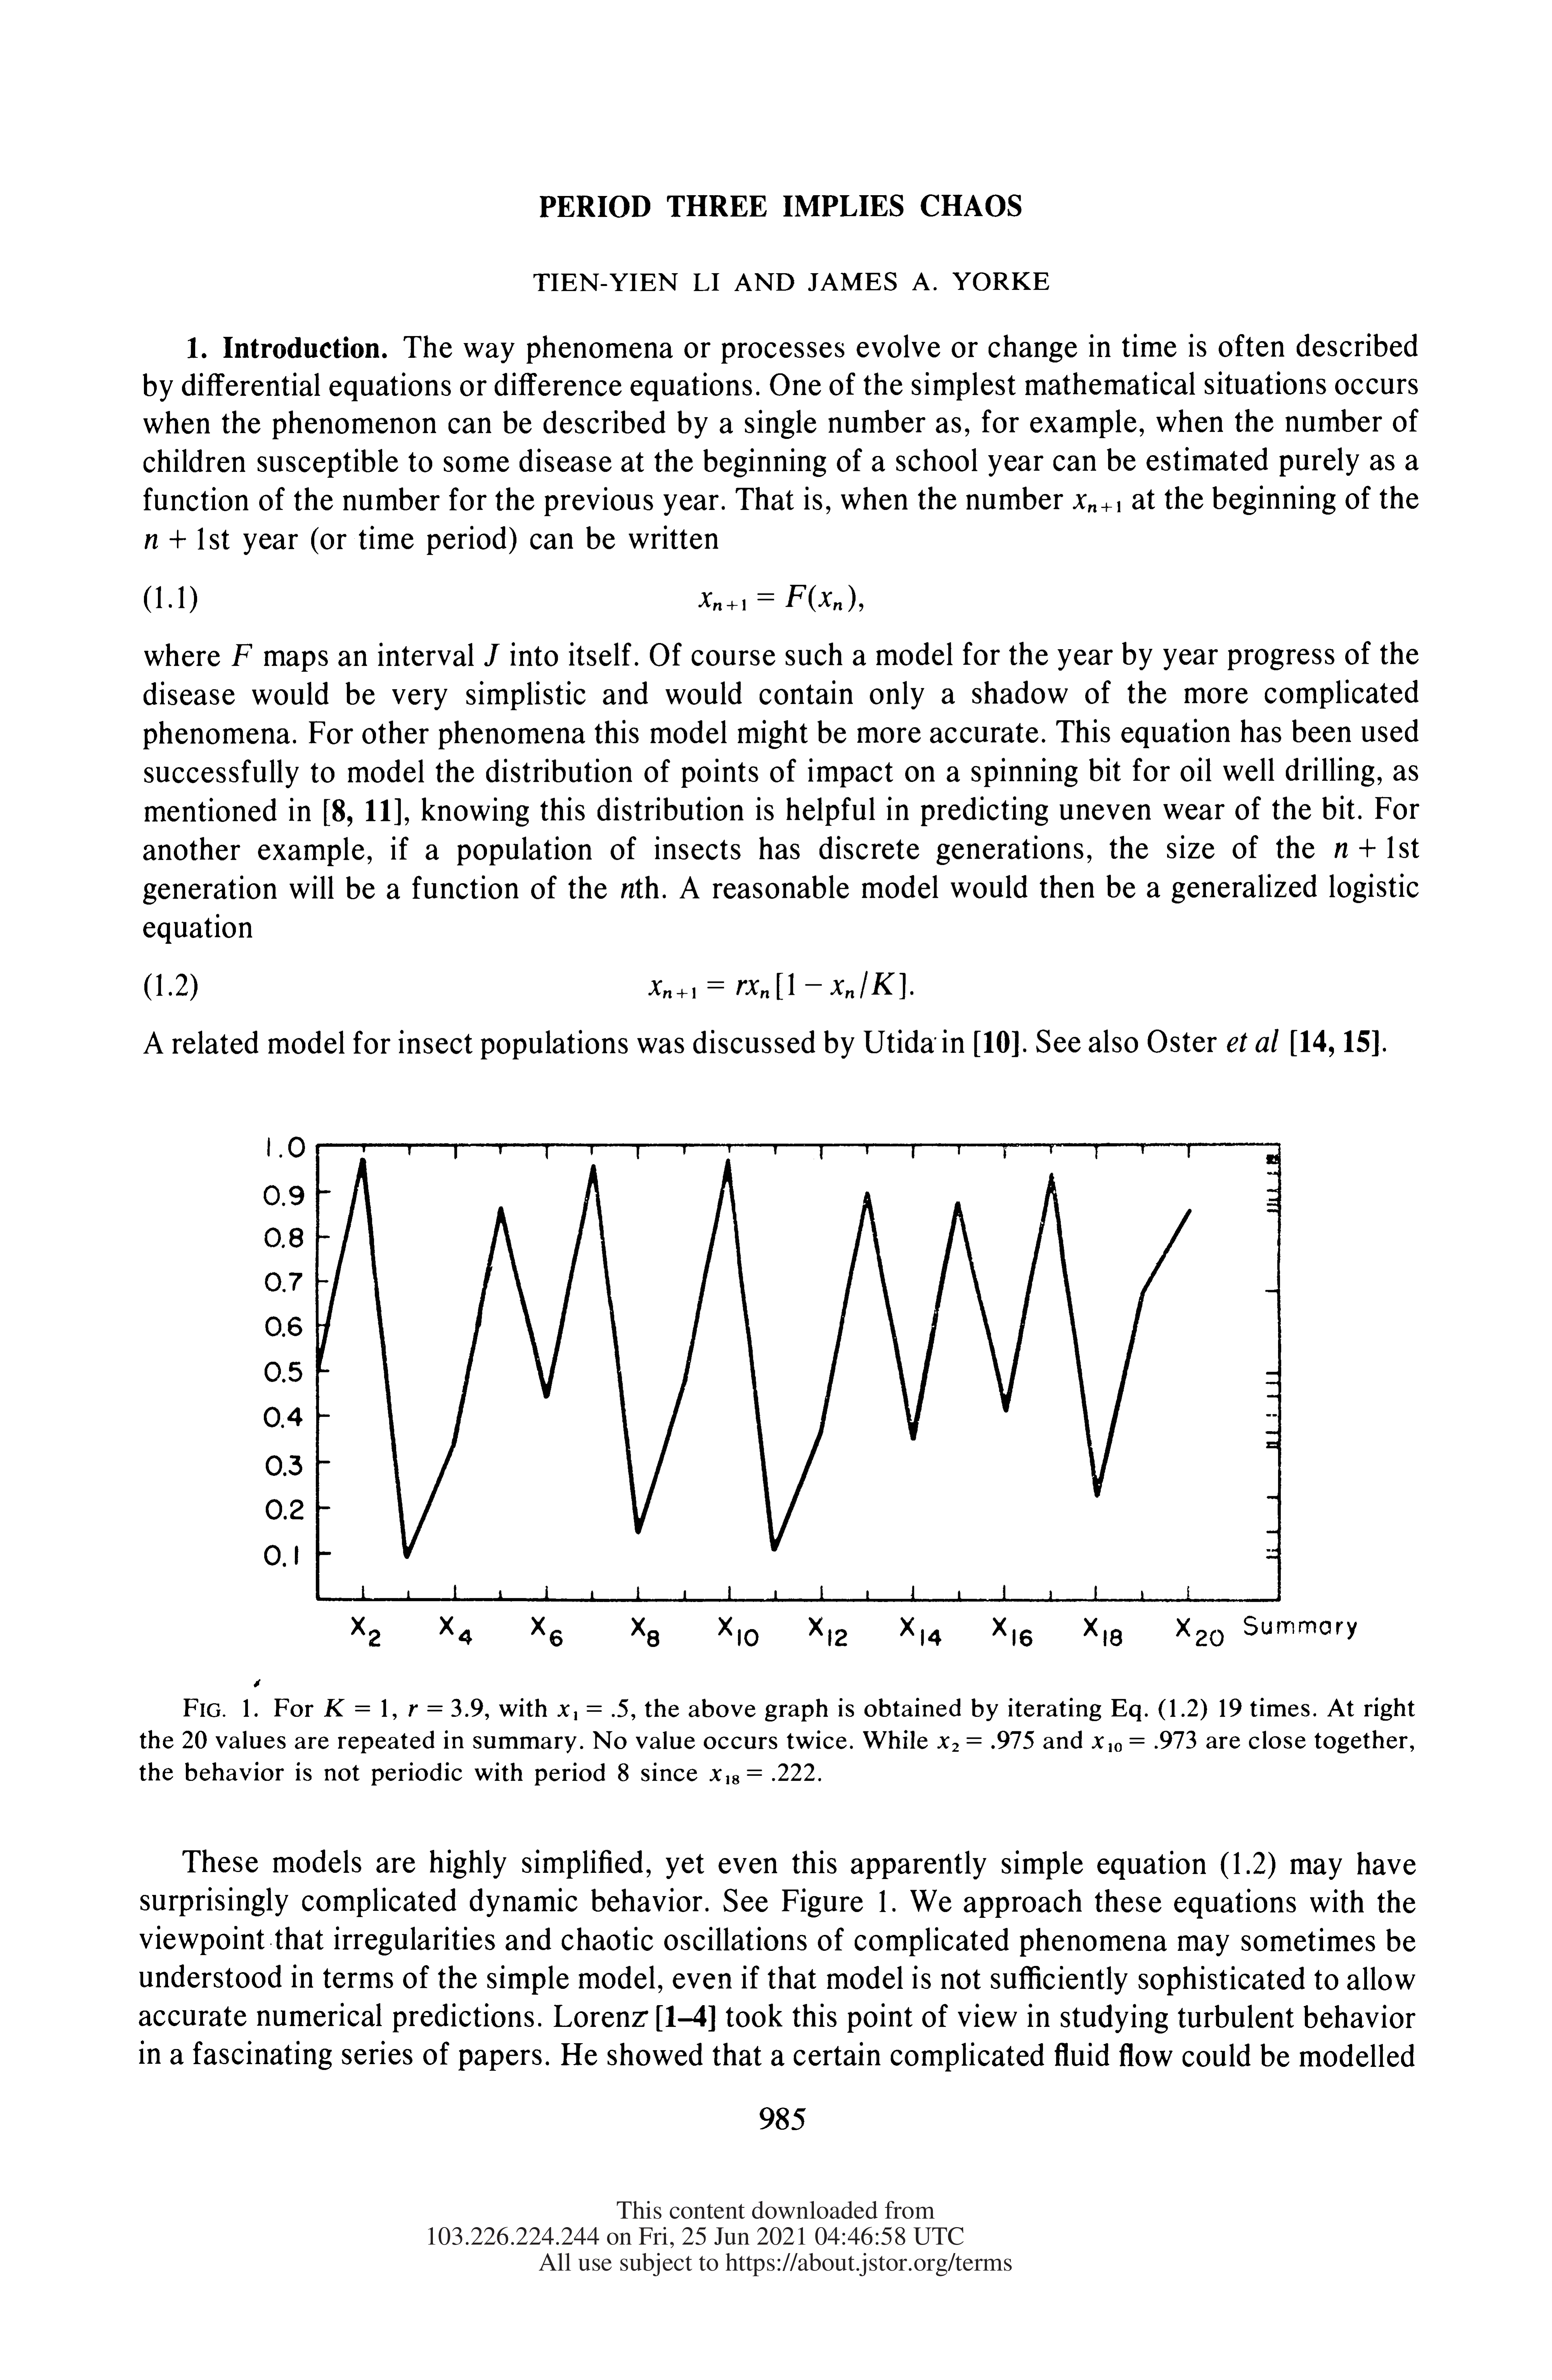maths: (649, 971, 914, 999), (699, 585, 855, 612), (1092, 1731, 1197, 1752), (709, 1764, 820, 1783), (938, 1731, 1034, 1752), (557, 1698, 628, 1721), (409, 1698, 482, 1717), (144, 527, 203, 548), (1335, 836, 1394, 857), (324, 1698, 387, 1717), (1073, 494, 1120, 512), (232, 644, 251, 666), (182, 1731, 206, 1749), (484, 644, 499, 666), (621, 883, 635, 899), (617, 1764, 628, 1782)
